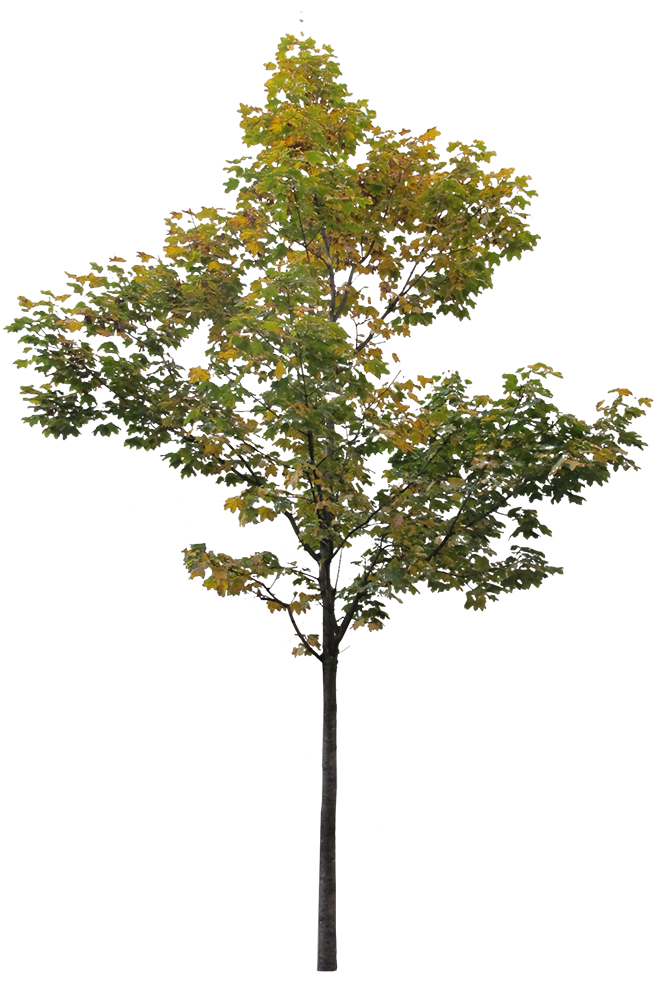tree: (2, 14, 655, 971)
